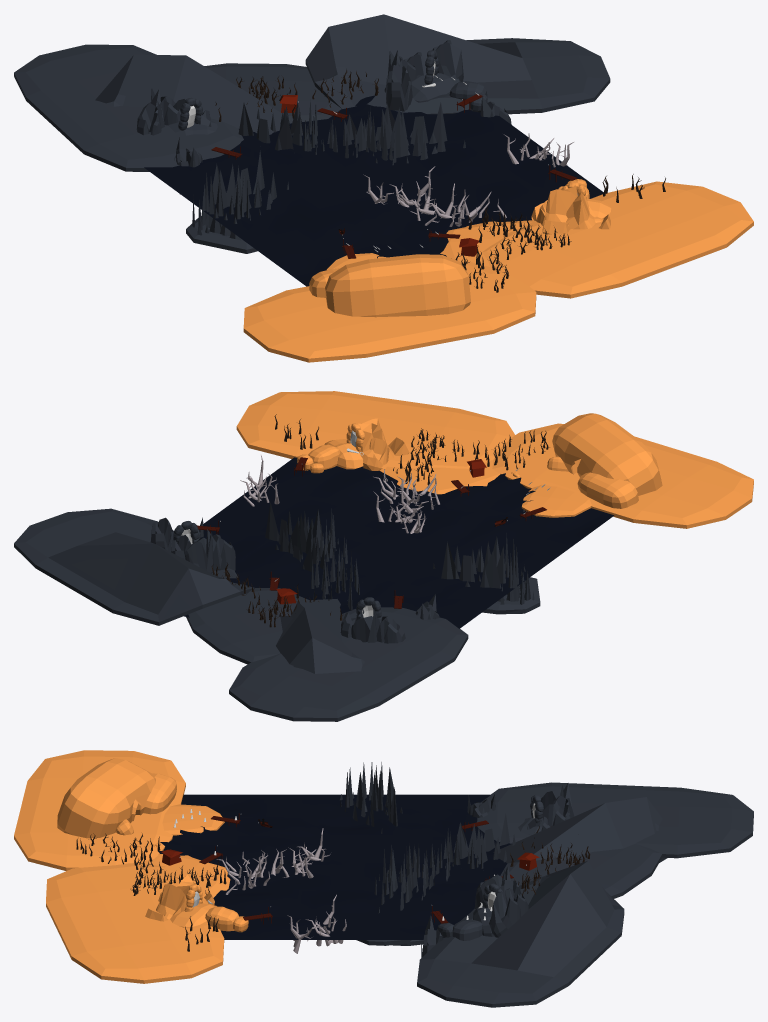
Rendered from map_haron_test.fbx.
3 renders of one model, top to bottom at view 1: azimuth 30°, elevation 25°; view 2: azimuth 150°, elevation 25°; view 3: azimuth 270°, elevation 25°, orthographic. The views are drawn at different scales.
Visible parts, largest first — view 1: Plane, Cube.061, Cube.041, Cube.039, Cube.059, Cube, Cube.104, Cube.123, Cube.060, Cube.094, Cube.003, Cube.093 (+10 smaller); view 2: Plane, Cube.061, Cube.041, Cube.059, Cube.039, Cube, Cube.060, Cube.104, Cube.123, Cube.003, Cube.094, Cube.040 (+13 smaller); view 3: Plane, Cube.061, Cube.041, Cube.059, Cube.039, Cube.104, Cube, Cube.060, Cube.003, Cube.094, Cube.123, Cube.093 (+11 smaller).
Boxes of the visible parts, left/top/right/bottom form: Plane: left=144, top=95, right=603, bottom=286; Cube.061: left=305, top=14, right=610, bottom=114; Cube.041: left=482, top=181, right=753, bottom=298; Cube.039: left=243, top=262, right=536, bottom=362; Cube.059: left=14, top=44, right=243, bottom=171; Cube: left=325, top=254, right=470, bottom=317; Cube.104: left=95, top=54, right=283, bottom=134; Cube.123: left=186, top=150, right=288, bottom=253; Cube.060: left=204, top=63, right=341, bottom=123; Cube.094: left=354, top=102, right=465, bottom=165; Cube.003: left=531, top=179, right=611, bottom=234; Cube.093: left=238, top=99, right=324, bottom=154; Plane: left=184, top=457, right=614, bottom=628; Cube.061: left=14, top=508, right=254, bottom=625; Cube.041: left=236, top=391, right=514, bottom=469; Cube.059: left=229, top=607, right=468, bottom=721; Cube.039: left=492, top=423, right=753, bottom=528; Cube: left=552, top=413, right=662, bottom=495; Cube.060: left=186, top=588, right=308, bottom=664; Cube.104: left=276, top=599, right=364, bottom=673; Cube.123: left=433, top=533, right=540, bottom=614; Cube.003: left=297, top=418, right=409, bottom=473; Cube.094: left=265, top=502, right=338, bottom=564; Cube.040: left=379, top=460, right=500, bottom=494; Plane: left=158, top=794, right=511, bottom=939; Cube.061: left=417, top=861, right=624, bottom=1007; Cube.041: left=46, top=863, right=224, bottom=983; Cube.059: left=477, top=782, right=753, bottom=858; Cube.039: left=14, top=750, right=185, bottom=870; Cube.104: left=493, top=797, right=667, bottom=863; Cube: left=57, top=758, right=155, bottom=838; Cube.060: left=500, top=844, right=662, bottom=898; Cube.003: left=145, top=873, right=248, bottom=932; Cube.094: left=356, top=843, right=435, bottom=945; Cube.123: left=340, top=762, right=402, bottom=833; Cube.093: left=434, top=813, right=515, bottom=870.
Size of the model in its own units: 8661 by 10808 by 1511.
